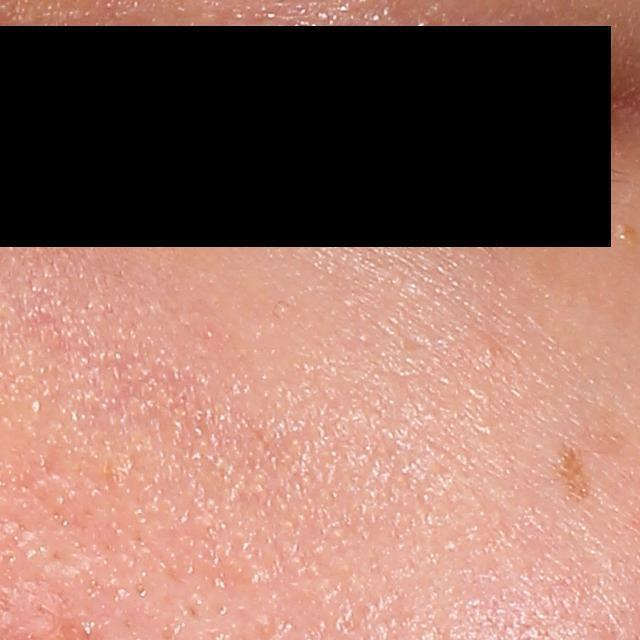melasma: (556, 446, 598, 504)
